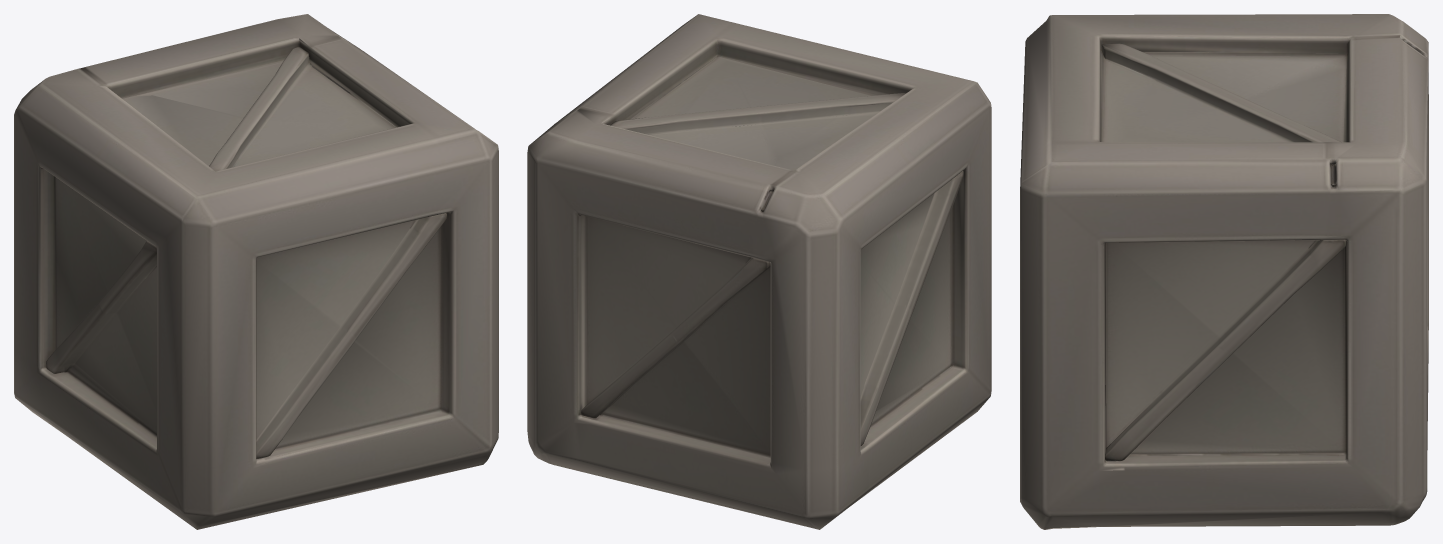
The model's file is BasicBox.fbx.
3 renders of one model, left to right at view 1: azimuth 30°, elevation 25°; view 2: azimuth 150°, elevation 25°; view 3: azimuth 270°, elevation 25°, orthographic. The views are drawn at different scales.
Visible parts, largest first — view 1: tripo_node_1eeb6285; view 2: tripo_node_1eeb6285; view 3: tripo_node_1eeb6285.
Part boxes in pixels (bbox=[...]): tripo_node_1eeb6285: bbox=[14, 14, 498, 529]; tripo_node_1eeb6285: bbox=[527, 14, 991, 529]; tripo_node_1eeb6285: bbox=[1020, 14, 1428, 529].
Bounding box in the file's own units: 0.9927 × 0.9878 × 0.9995.
